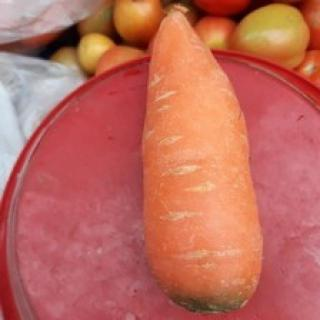carrot: (141, 9, 262, 314)
